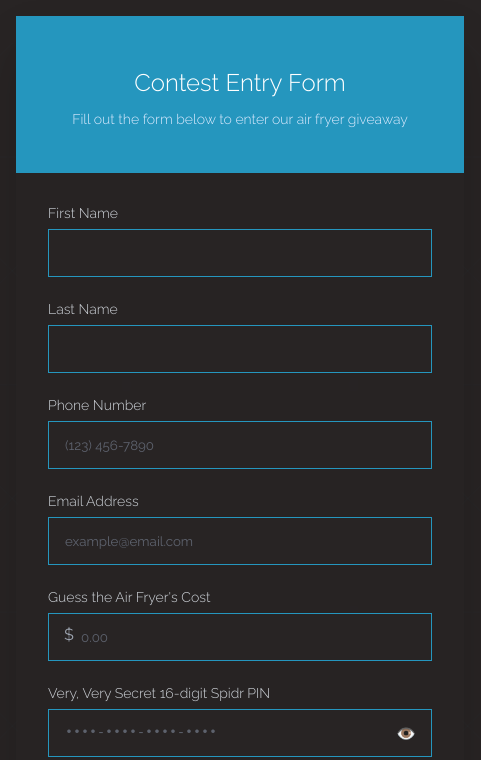
SpidrForm Component › PIN Show/Hide Toggle › toggles PIN visibility
The width and height of the screenshot is (481, 760).
Click to show
Click the button named "show pin": (406, 733) left=392, top=719, right=420, bottom=746
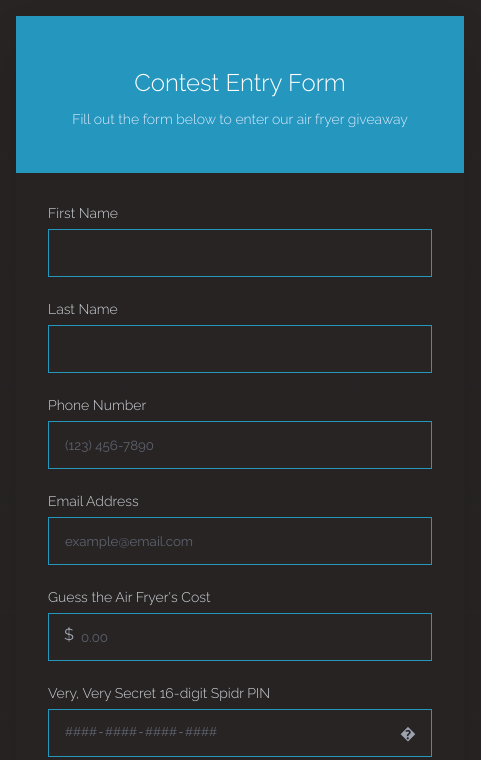
Expected: the button named "hide pin" is shown
Click to hide again
Click the button named "hide pin": (408, 733) left=396, top=718, right=420, bottom=748
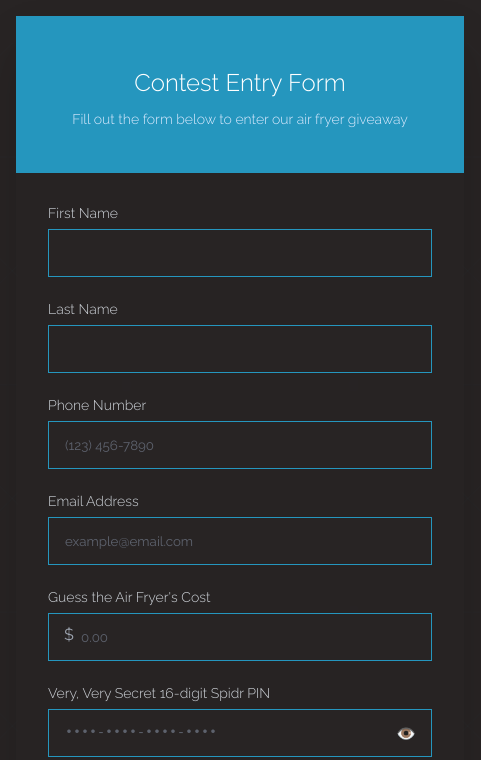
Expected: the button named "show pin" is shown, left=392, top=719, right=420, bottom=746
